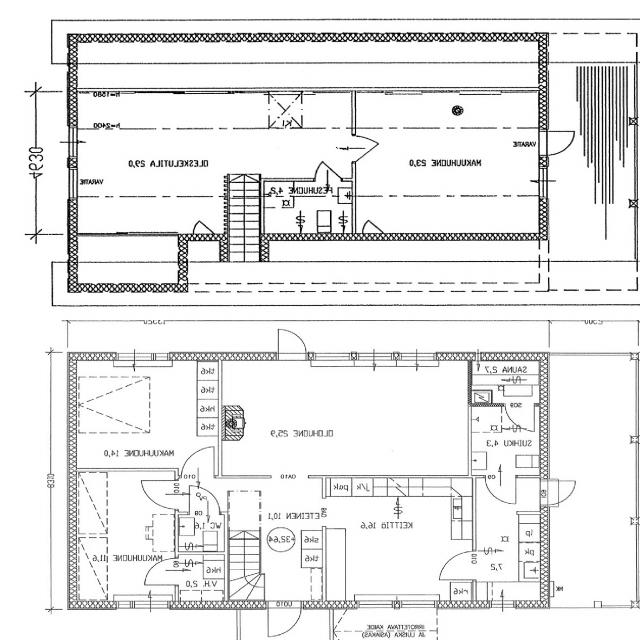door: (268, 600, 301, 636), (440, 551, 476, 580), (142, 481, 178, 509), (182, 447, 214, 478), (539, 131, 577, 155), (540, 481, 577, 505), (352, 136, 386, 162), (486, 475, 516, 504), (190, 486, 220, 515), (278, 329, 306, 360), (145, 559, 178, 585), (505, 404, 534, 431), (316, 156, 341, 181)
